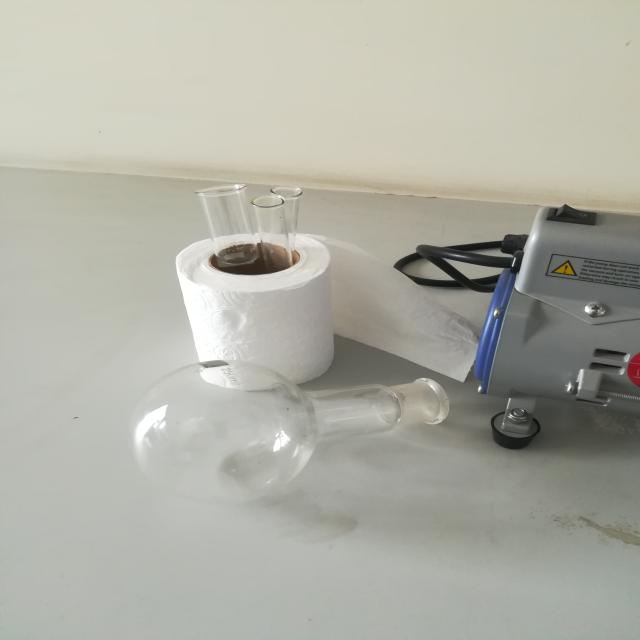Round_Bottom_Flask_Borosilicate_Glass_1_Neck: (123, 338, 475, 526)
